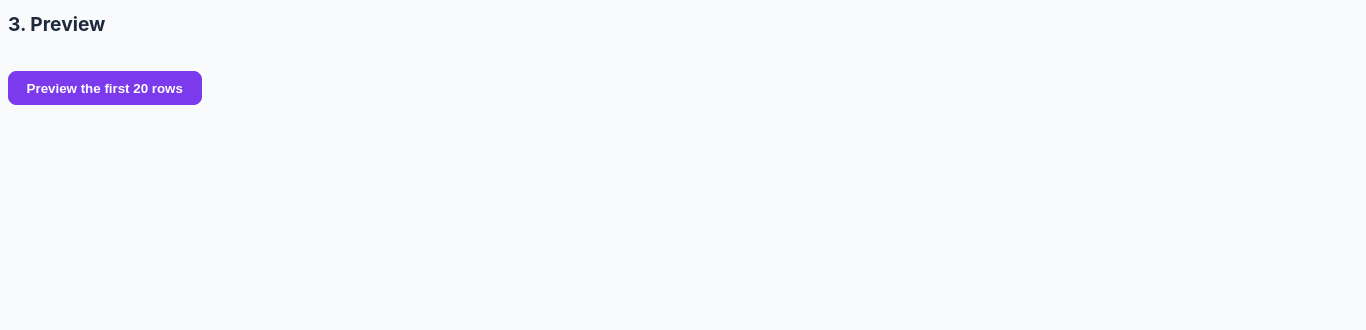
PreviewPanel › shows rows, highlights the failing cell with its reason and the AI stats
Click the button "Preview the first 20 rows" at x=105, y=88, box 8,71 -> 202,105
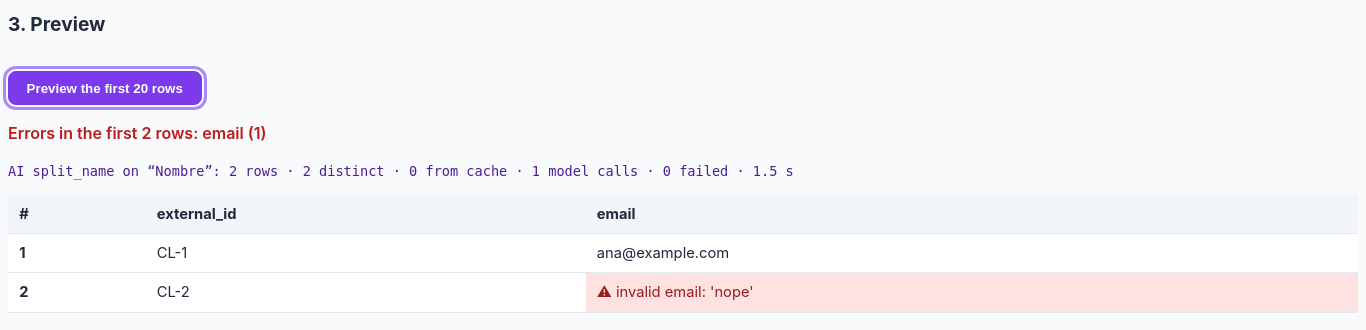
Now the text "Errors in the first 2 rows: email (1)" is shown, box 8,123 -> 266,143
Now the text "ana@example.com" is shown, box 586,234 -> 1358,273
Now the text "AI split_name on “Nombre”: 2 rows · 2 distinct · 0 from cache · 1 model calls · 0 failed · 1.5 s" is shown, box 8,163 -> 794,179
